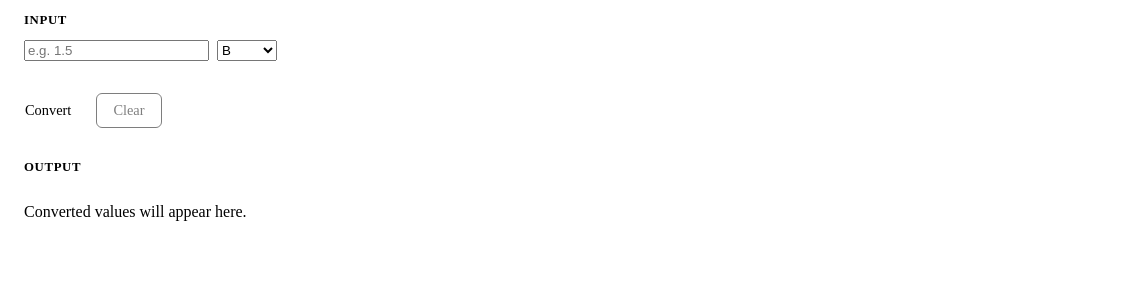
Test: ByteSizeConverterTool › shows an error for a non-numeric value
Type "abc" into the field named "Byte value" at [116, 50], box [24,40,209,61]
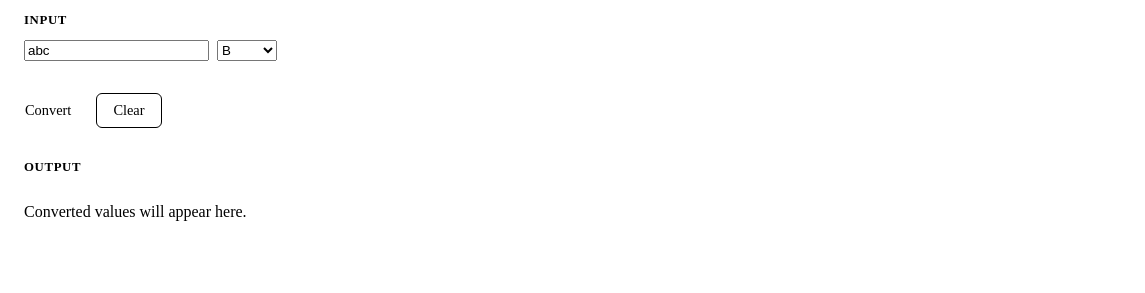
Click the button "Convert" at [48, 110], box [8,93,88,128]
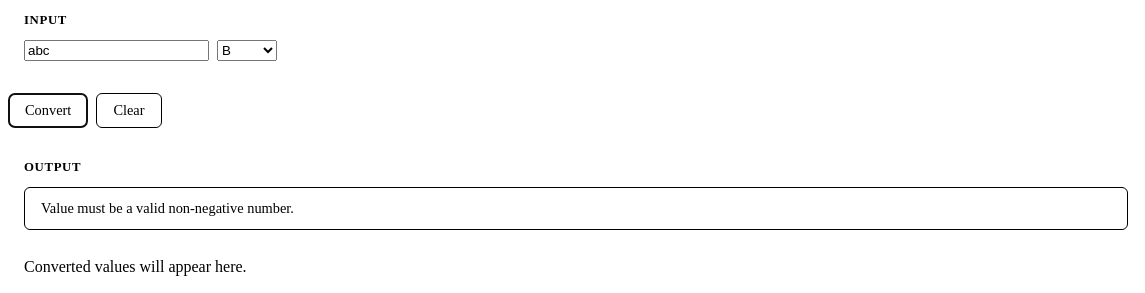
Check: the message shows "valid", box [41,200,294,216]
